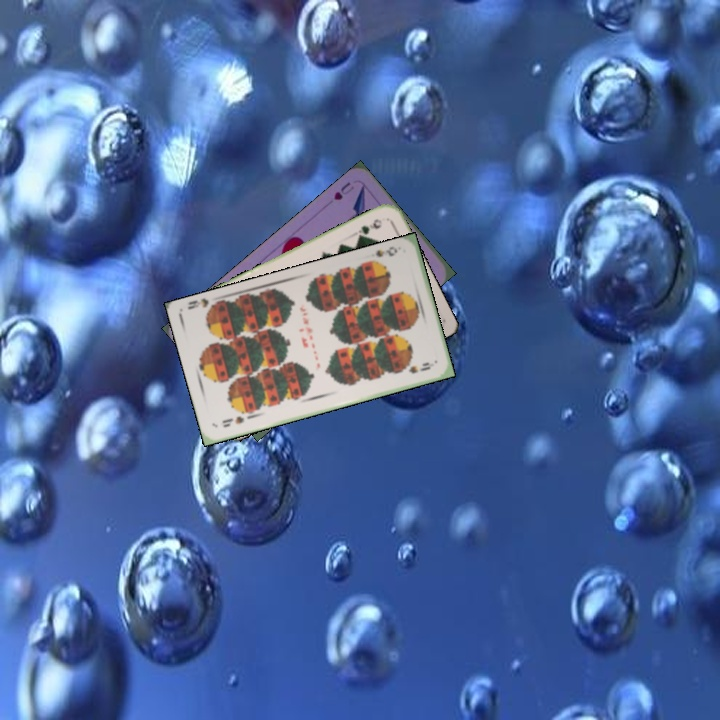G9: (349, 215, 385, 241)
HU: (330, 178, 356, 203)
S9: (364, 242, 400, 268), (218, 408, 254, 430)
